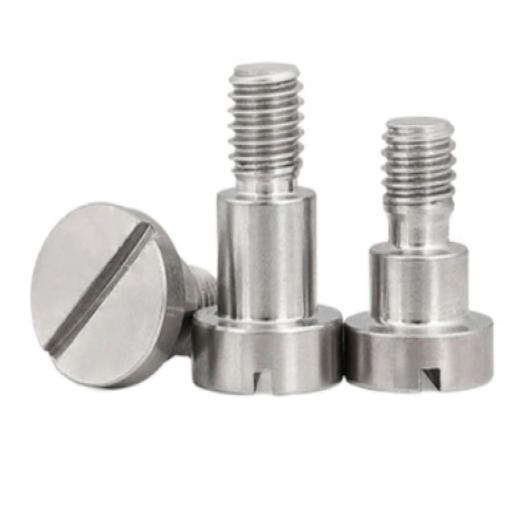Slotted: (31, 198, 187, 392)
